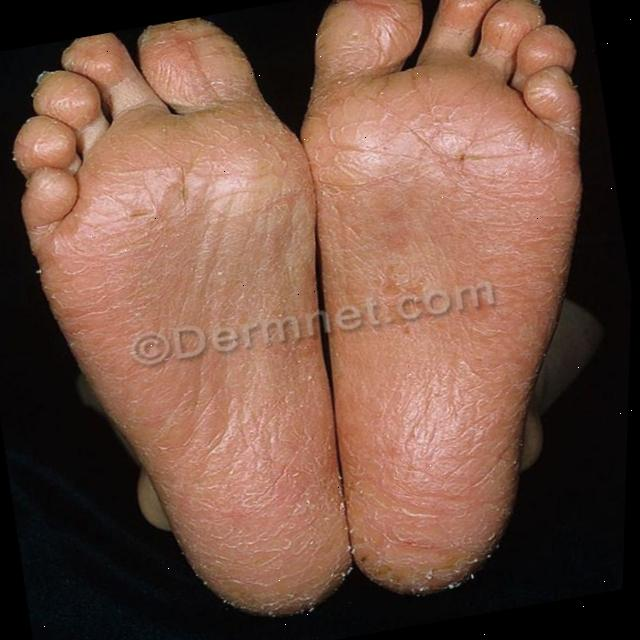Eczema: (14, 0, 594, 640)
